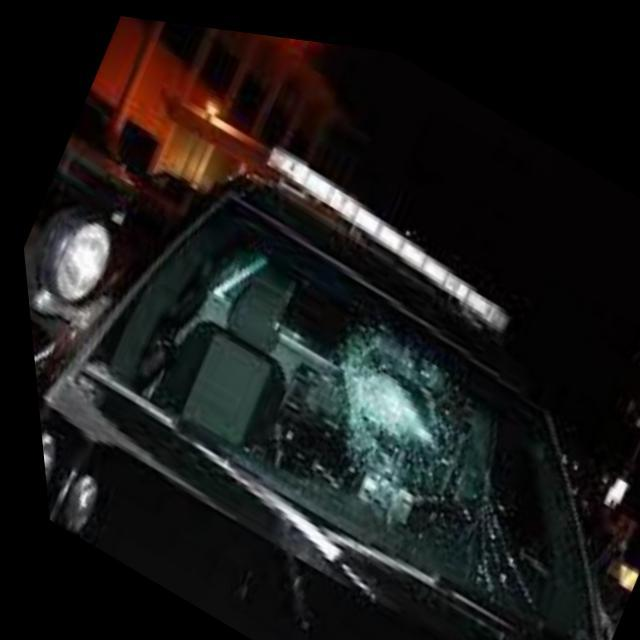glass shatter: (325, 310, 490, 508)
